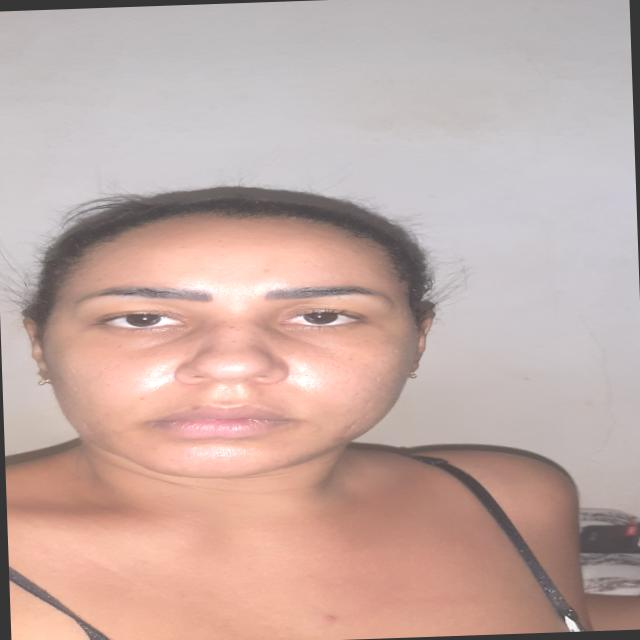eyebrow: (73, 284, 217, 301), (260, 284, 396, 300)
